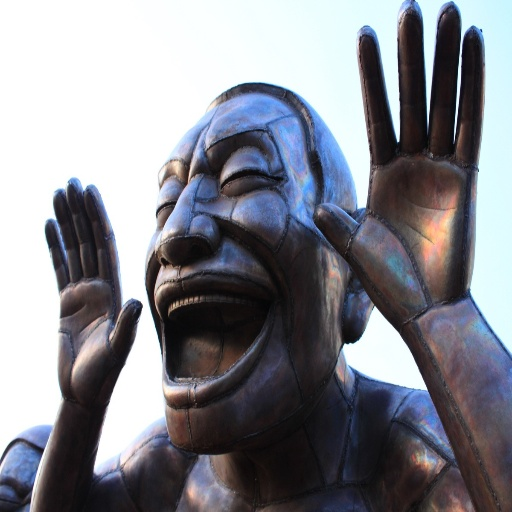hand: (311, 0, 485, 334), (38, 175, 131, 398)
